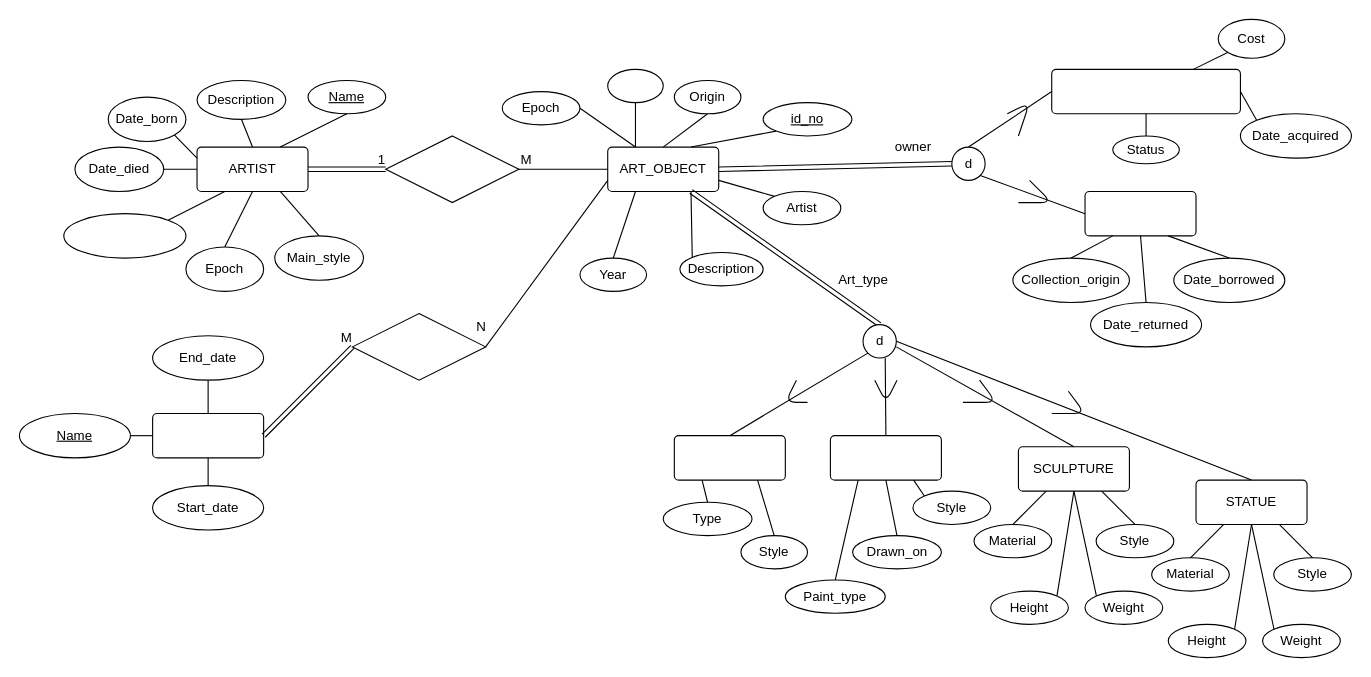
Image size: 1371x677. Some labels were removed from this diagram. Here are the shapes that lost their labels. From the top down, the centre of each, then its label:
pixel 635 85: Title
pixel 1145 91: PERMANENT_COLLECTION
pixel 452 169: CREATOR
pixel 1140 213: BORROWED
pixel 124 235: Country_of_origin
pixel 418 346: ON_DISPLAY
pixel 208 435: EXHIBITIONS
pixel 729 457: OTHER
pixel 885 457: PAINTING
